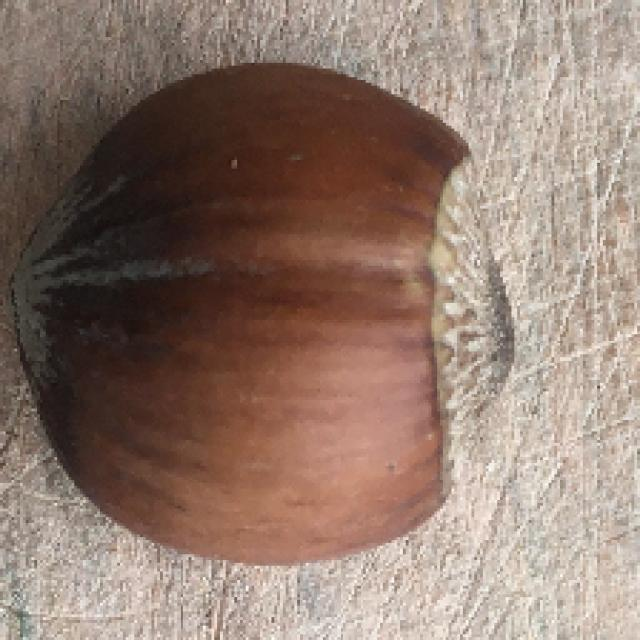damagedHazelnut: (5, 67, 524, 572)
